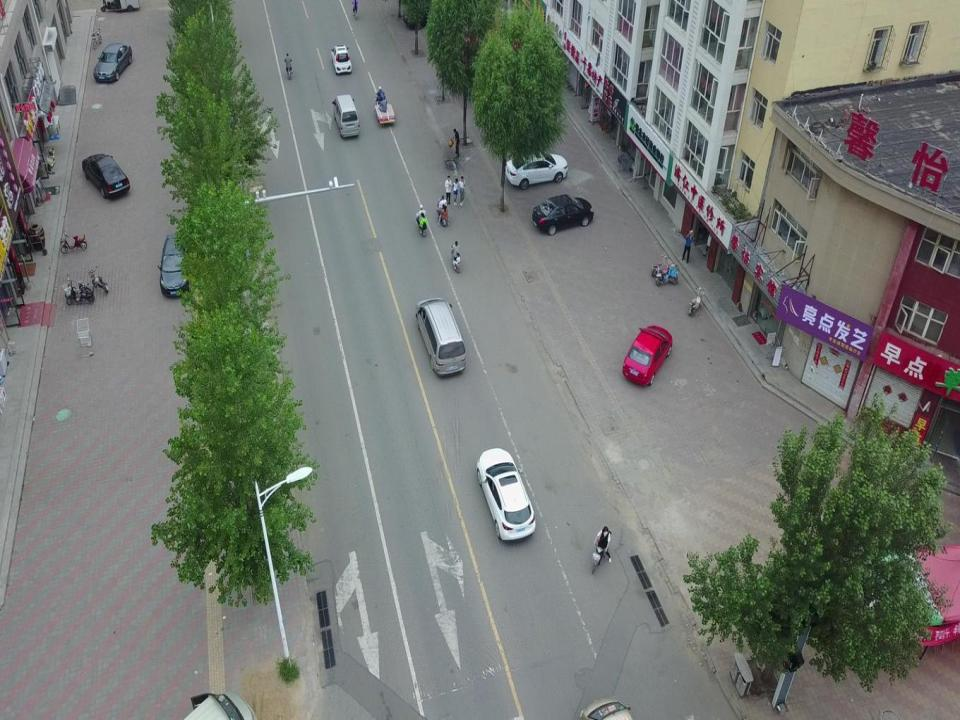car: (475, 447, 537, 544), (623, 324, 672, 388), (532, 193, 595, 236), (505, 152, 568, 189), (80, 152, 130, 198), (158, 234, 195, 296), (93, 42, 133, 83), (65, 278, 95, 306), (330, 43, 353, 76), (61, 271, 90, 297), (90, 266, 108, 294)
van: (414, 298, 467, 376), (174, 691, 257, 720), (332, 94, 360, 138)
